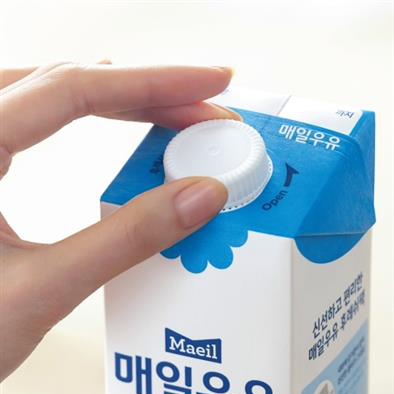milk: (101, 79, 378, 394)
